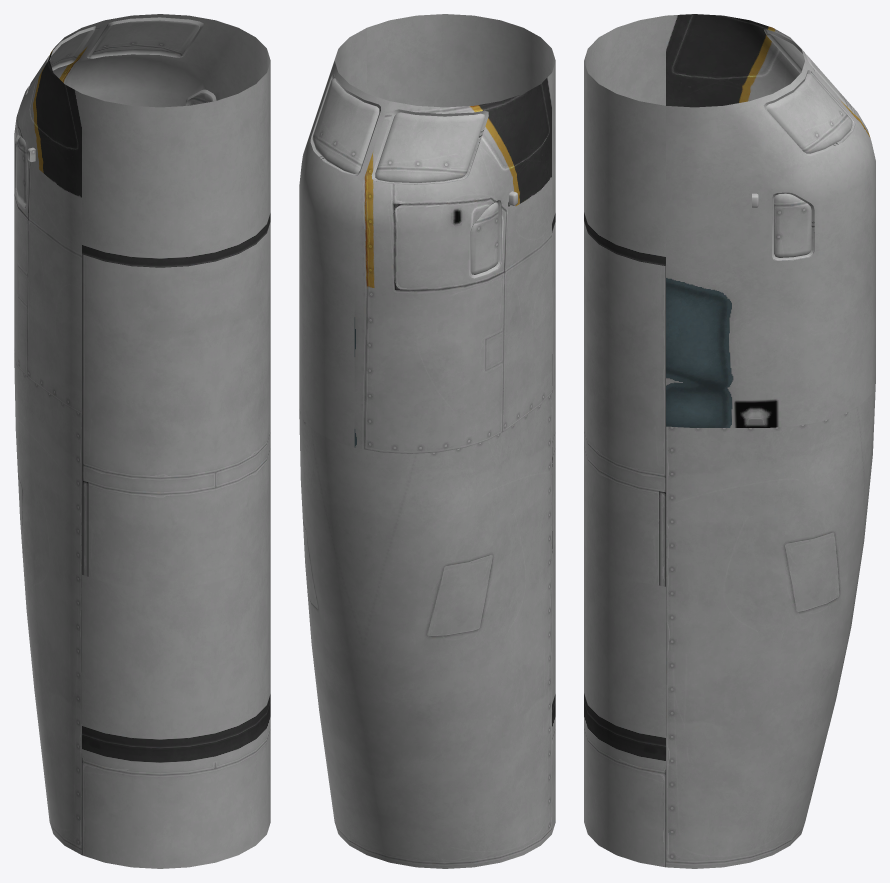
The model's file is size1_turbo_crew.fbx.
3 views of the same model, side by side, from view 1: azimuth 30°, elevation 25°; view 2: azimuth 150°, elevation 25°; view 3: azimuth 270°, elevation 25° (orthographic).
Visible parts, largest first — view 1: main, windows; view 2: main, windows; view 3: main, windows.
Boxes of the visible parts, <box> form: main: <box>14,14,270,868</box>; windows: <box>16,20,213,204</box>; main: <box>299,14,555,868</box>; windows: <box>312,78,498,274</box>; main: <box>584,14,875,868</box>; windows: <box>766,33,852,257</box>.
Size of what is drawn, in the model's own units: 1.33 by 4.75 by 1.65.
